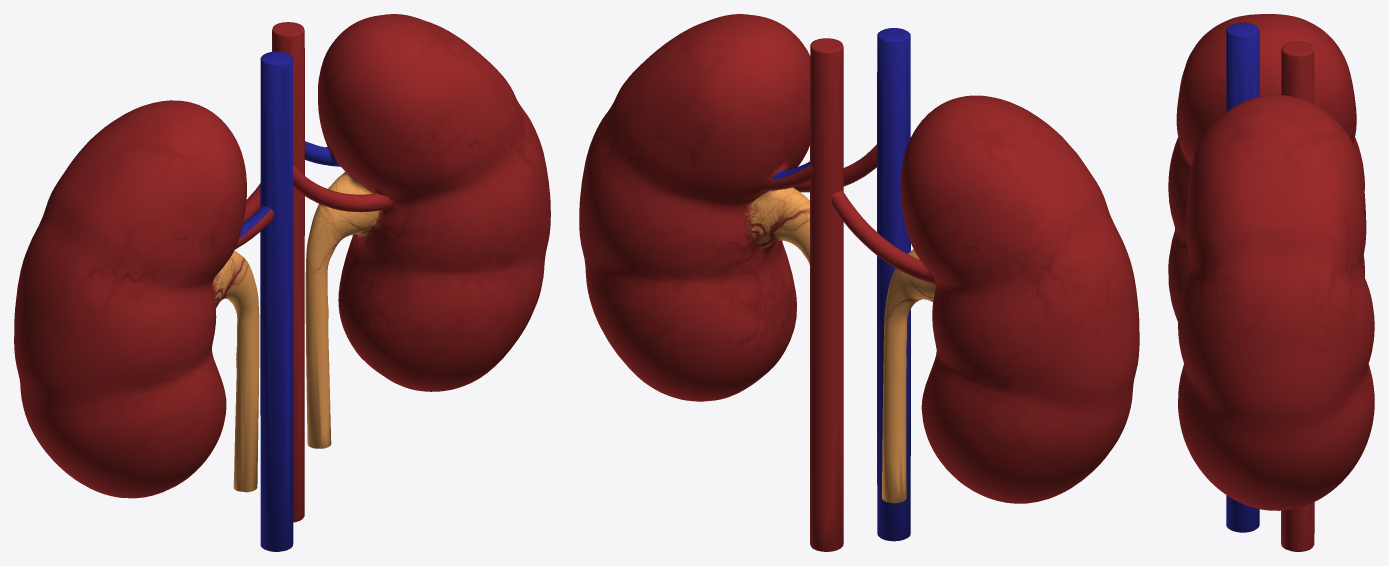
File: kidneys.glb
3 views of the same model, side by side, from view 1: azimuth 30°, elevation 25°; view 2: azimuth 150°, elevation 25°; view 3: azimuth 270°, elevation 25° (orthographic). The views are drawn at different scales.
Visible parts, largest first — view 1: kidney02:kidney03:Group12708_Kidney Tex_0; view 2: kidney02:kidney03:Group12708_Kidney Tex_0; view 3: kidney02:kidney03:Group12708_Kidney Tex_0.
Part boxes in pixels (x1,y1,x2,y2): kidney02:kidney03:Group12708_Kidney Tex_0: [14, 14, 550, 551]; kidney02:kidney03:Group12708_Kidney Tex_0: [579, 14, 1139, 551]; kidney02:kidney03:Group12708_Kidney Tex_0: [1168, 14, 1374, 551].
Bounding box in the file's own units: 1.72 × 1.55 × 0.5821.
1 material, 1 textured.
